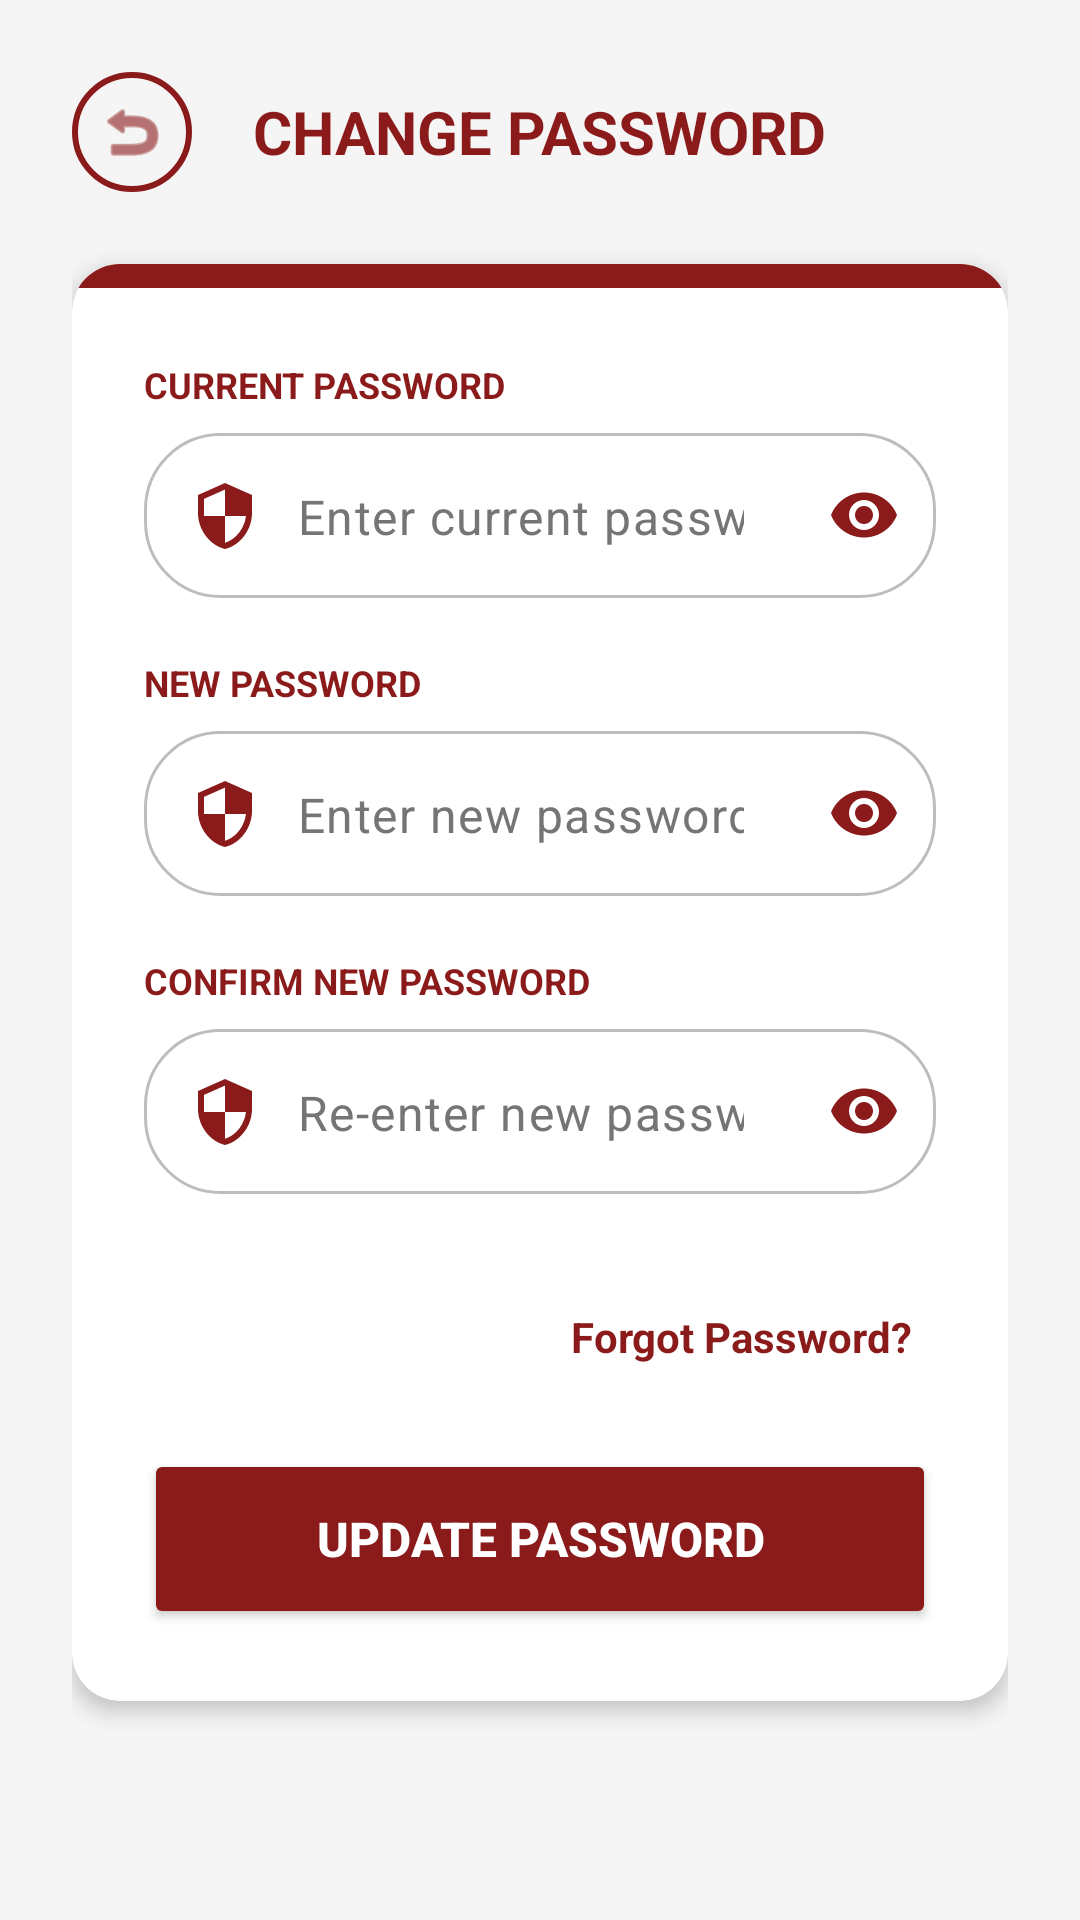

Icon click points for this 1080 × 1920 phone screenshot, format point (x, y):
revert: point (132, 132)
